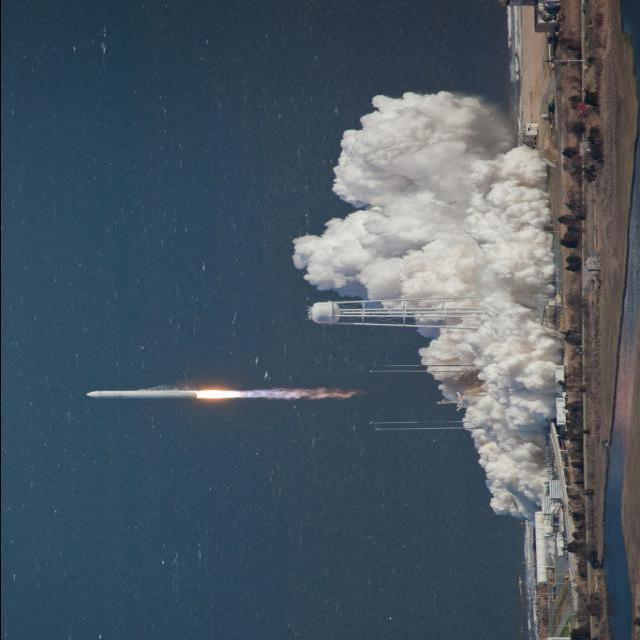missile: (85, 385, 197, 410)
